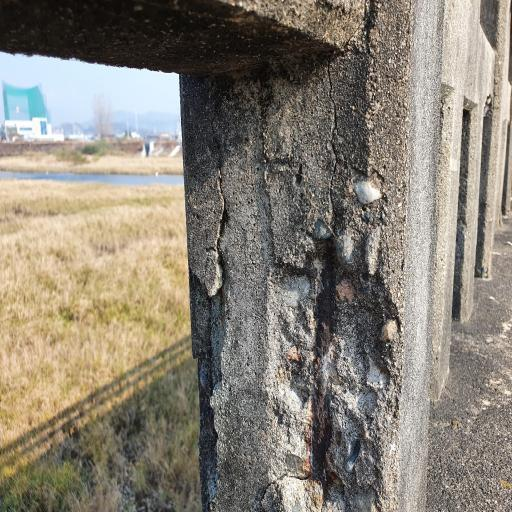exposed_rebar: (312, 249, 333, 473)
spalling: (259, 218, 400, 512)
